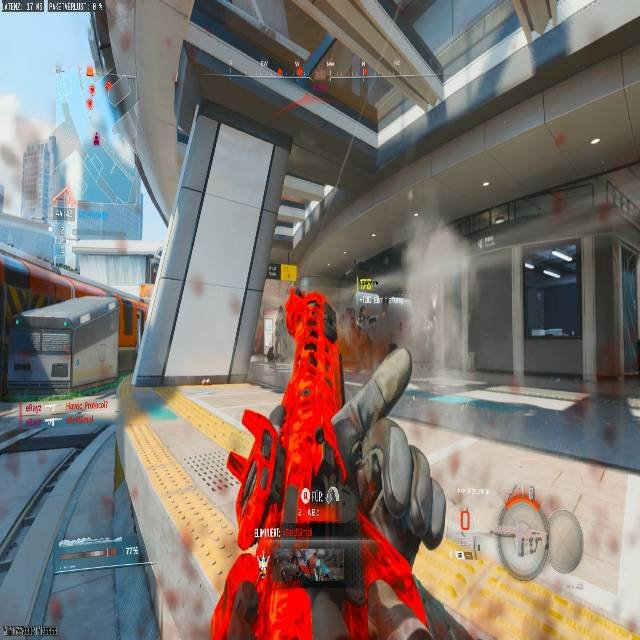head: (497, 488, 548, 555)
player: (445, 486, 638, 638), (283, 291, 336, 397)
